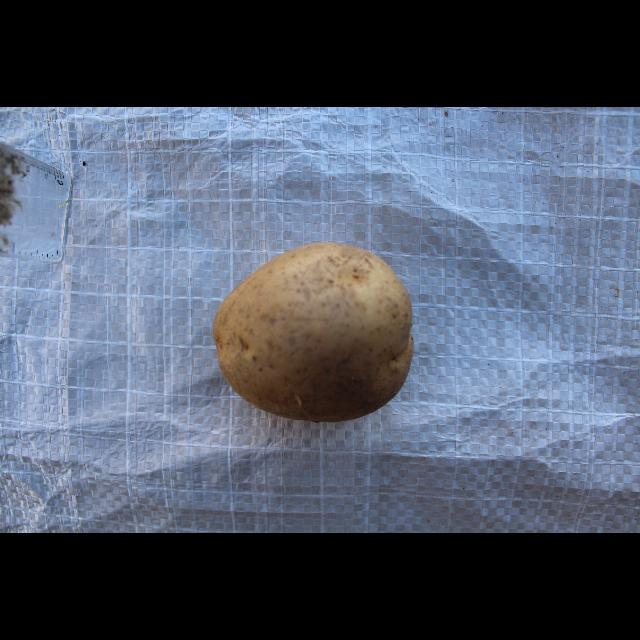Diseased-fungal potato: (205, 239, 422, 426)
